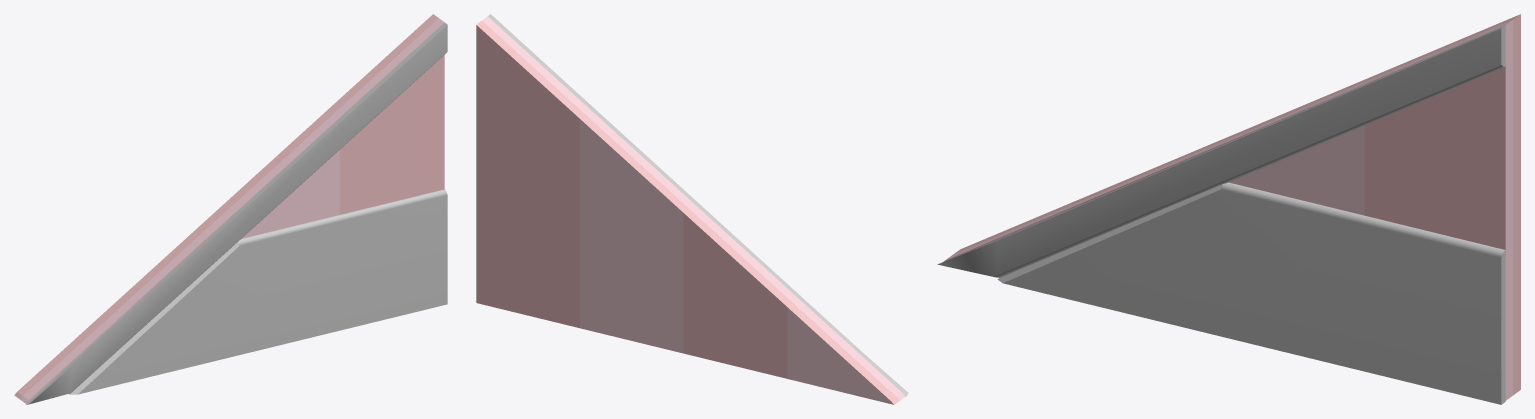
The model's file is Wall_Interior_Angled_8.fbx.
3 views of the same model, side by side, from view 1: azimuth 30°, elevation 25°; view 2: azimuth 150°, elevation 25°; view 3: azimuth 330°, elevation 25° (orthographic). The views are drawn at different scales.
Parts seen in each view (by area): view 1: Wall_Interior_Angled; view 2: Wall_Interior_Angled; view 3: Wall_Interior_Angled.
Boxes of the visible parts, <box> form: Wall_Interior_Angled: <box>14,14,447,404</box>; Wall_Interior_Angled: <box>476,14,908,404</box>; Wall_Interior_Angled: <box>937,14,1520,404</box>.
Size of the model in its own units: 1 by 0.6377 by 0.0602.
